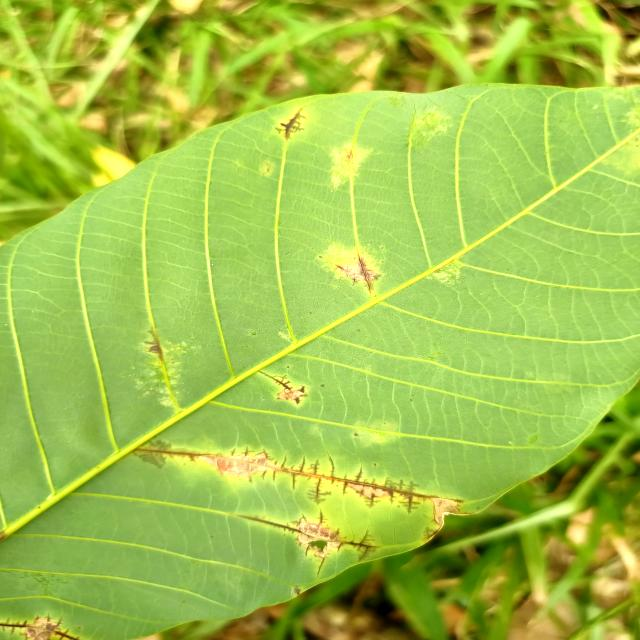Corynespora: (127, 438, 433, 516), (238, 509, 378, 575), (0, 612, 82, 640), (258, 370, 308, 406), (273, 108, 304, 141)
Leaf-Blight: (432, 498, 458, 525)
